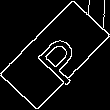P_NW: (24, 24, 86, 86)
